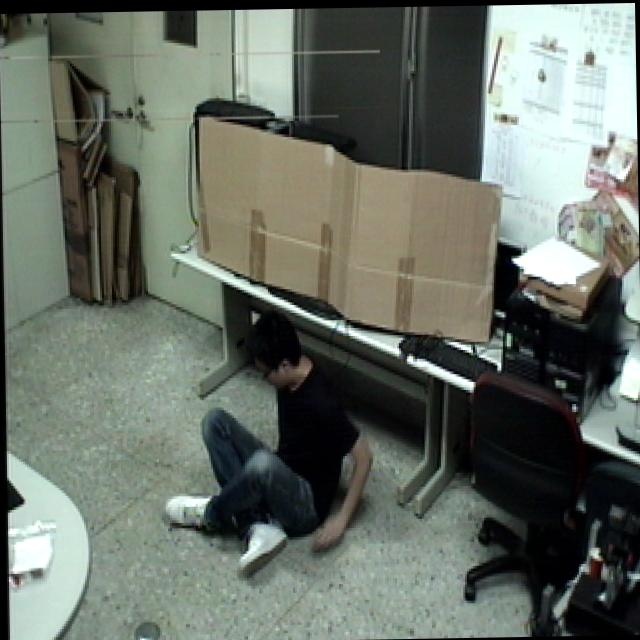sit: (155, 300, 378, 586)
